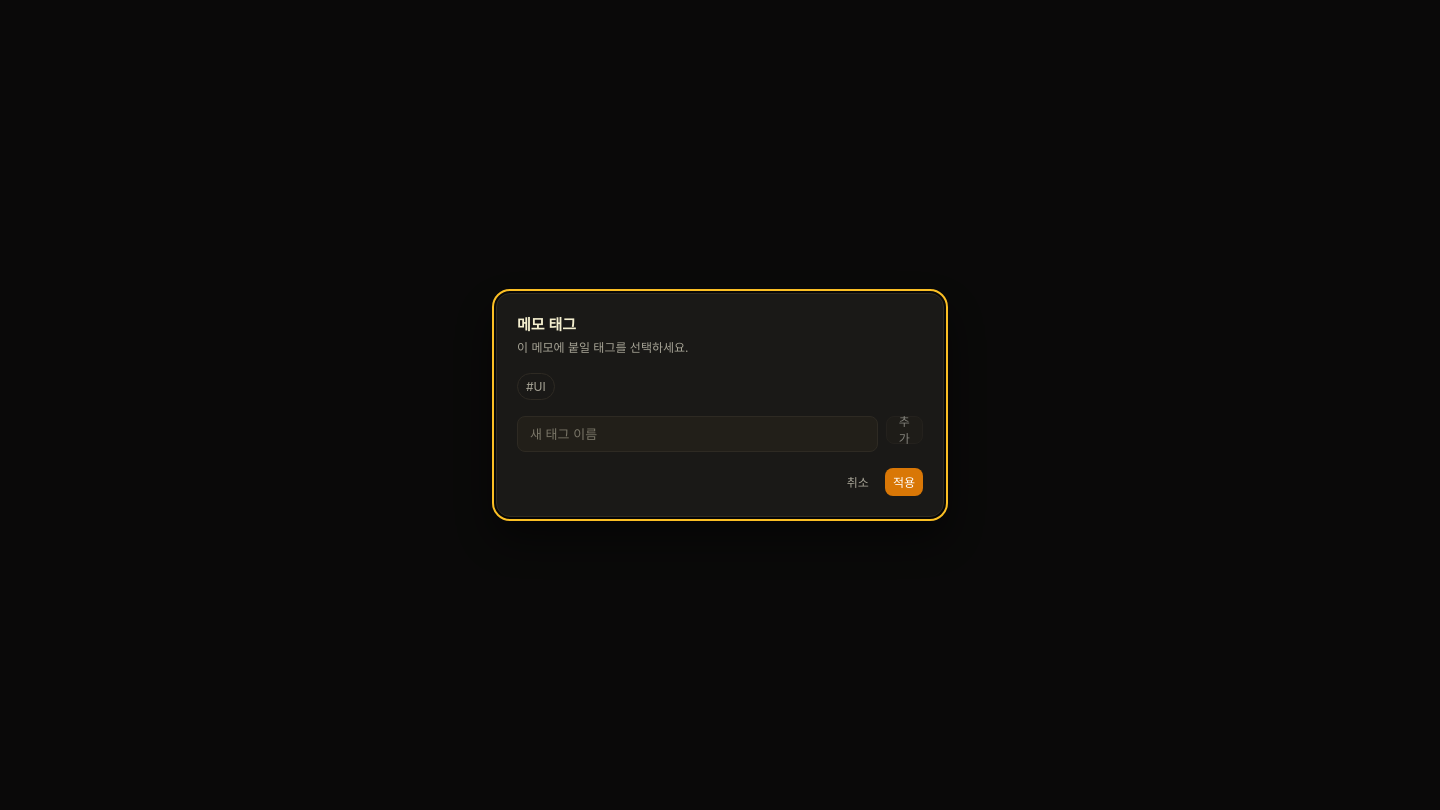
Test: MemoTagPickerDialog › keeps the dialog open and reports create failures
The width and height of the screenshot is (1440, 810).
Type "중요" into the field with placeholder "새 태그 이름".
click(697, 434); type("중요")  # box left=517, top=416, right=878, bottom=452
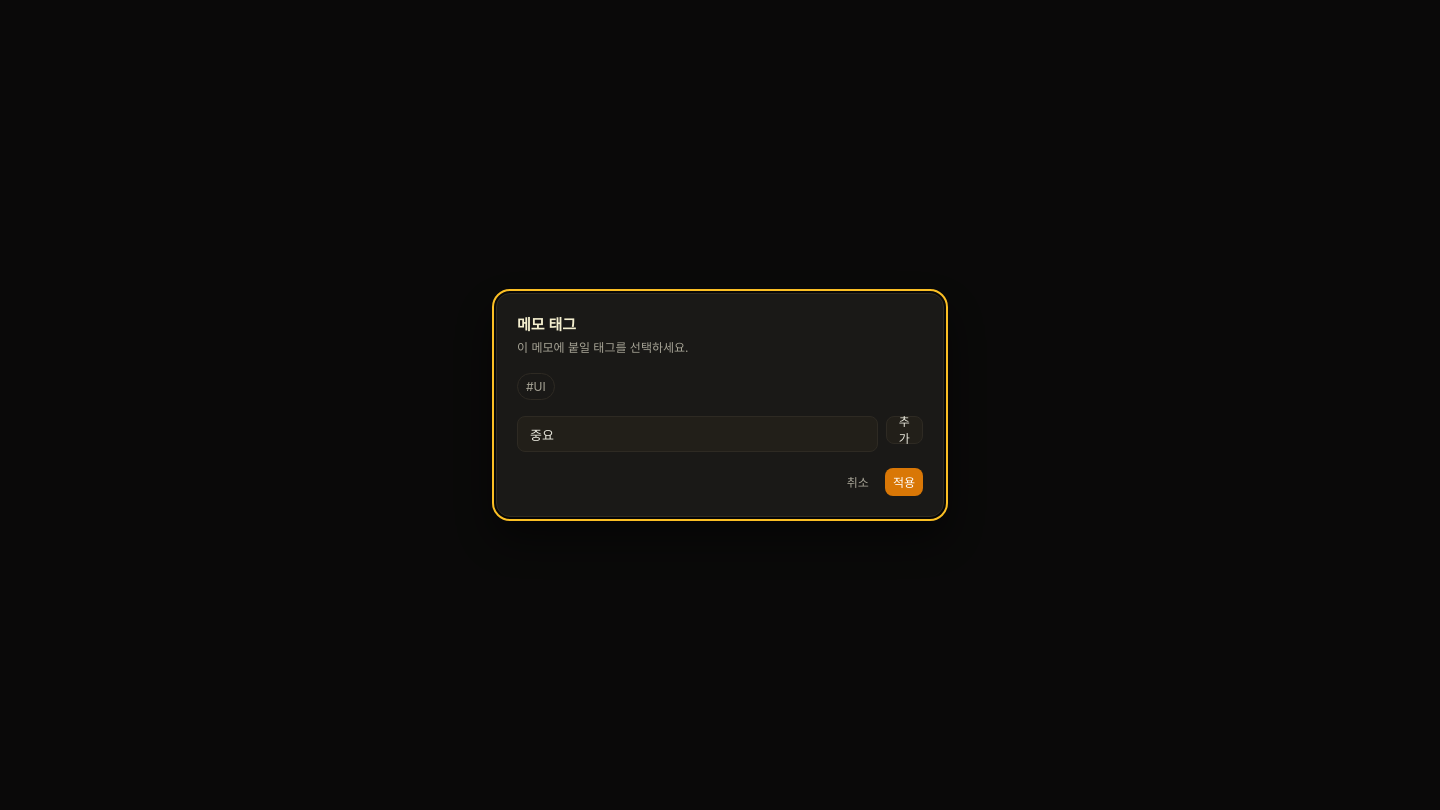
Click the button "추가".
click(904, 430)  # box left=886, top=416, right=923, bottom=444
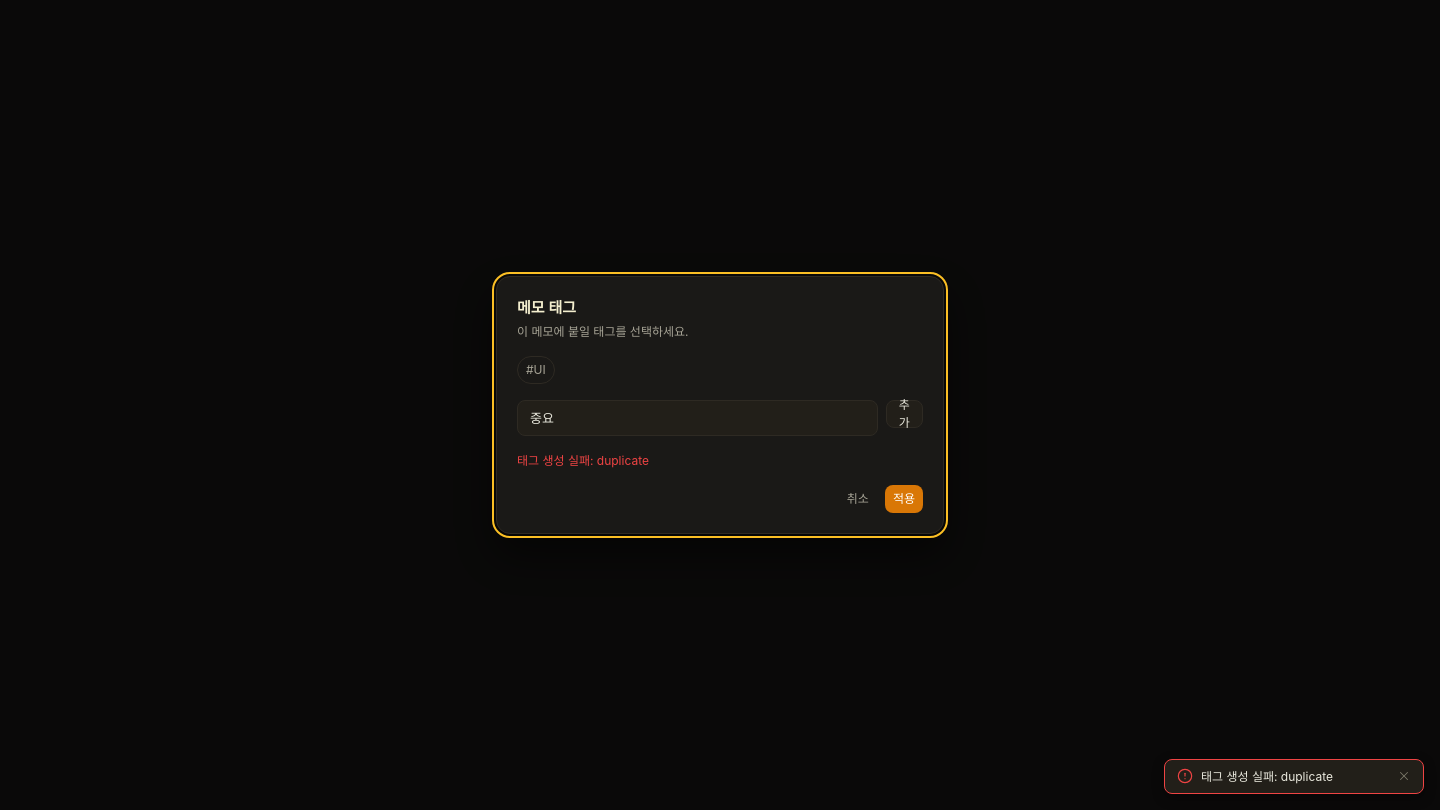
Expected: the dialog is shown, left=496, top=276, right=944, bottom=534
Now the message reads "태그 생성 실패: duplicate", box left=517, top=453, right=649, bottom=468
